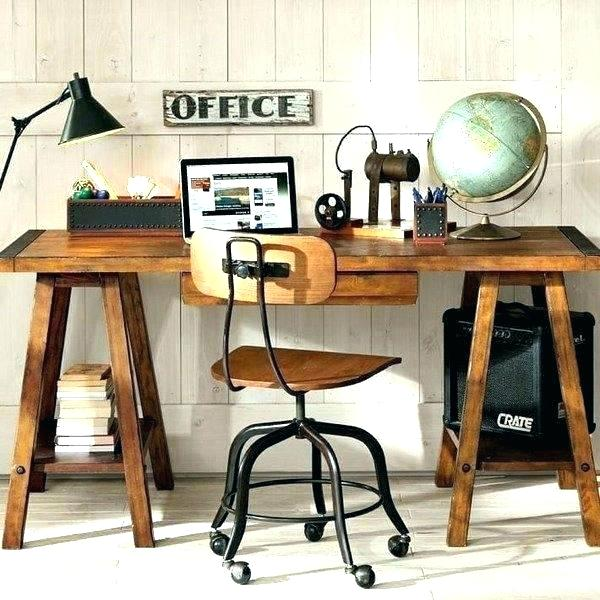chairs: (164, 226, 420, 591)
